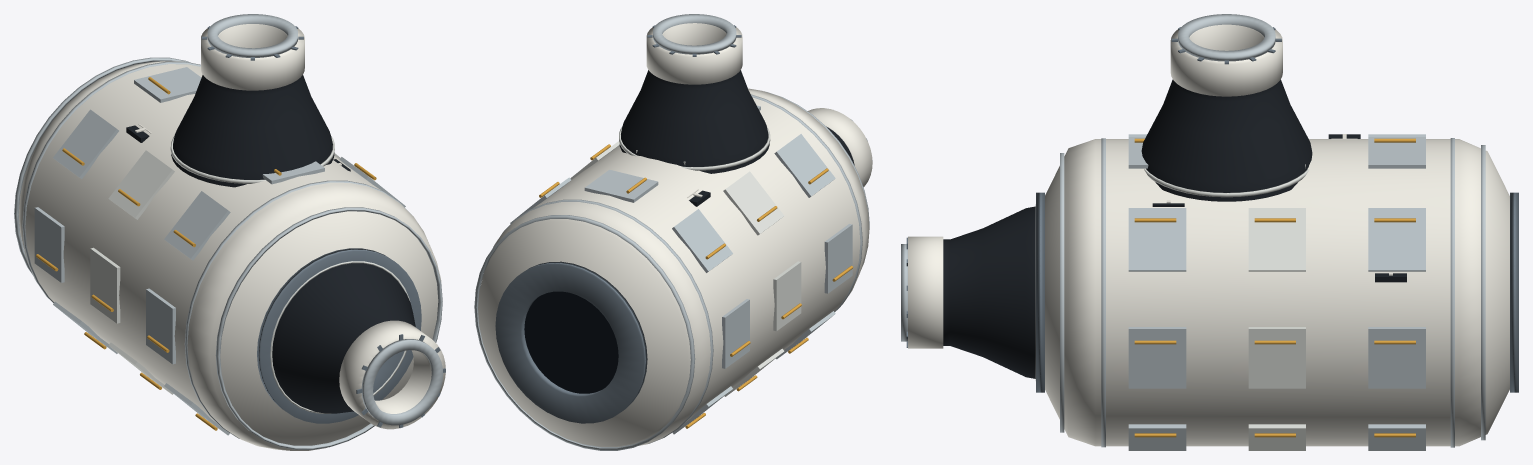
The model's file is iss_harmony_port.glb.
3 renders of one model, left to right at view 1: azimuth 30°, elevation 25°; view 2: azimuth 150°, elevation 25°; view 3: azimuth 270°, elevation 25°, orthographic. The views are drawn at different scales.
Parts seen in each view (by area): view 1: harmonymesh_Warm_white_enamel, harmonymesh_Satin_aluminum, iss_harmony_dockpma_zenithmesh_Carbon_composite, iss_harmony_dockpma_forwardmesh_Carbon_composite, harmonyaxial_hatch_bmesh_Machined_steel, iss_harmony_dockpma_zenithida_zenithmesh_Warm_white_enamel, iss_harmony_dockpma_forwardida_forwardmesh_Warm_white_enamel, harmonymesh_Pale_thermal_blanket, iss_harmony_dockpma_forwardida_forwardmesh_Satin_aluminum, iss_harmony_dockpma_zenithida_zenithmesh_Satin_aluminum, harmonymesh_Gold_thermal_insulation, iss_harmony_dockpma_forwardmesh_Pale_thermal_blanket (+1 smaller); view 2: harmonymesh_Warm_white_enamel, harmonymesh_Satin_aluminum, harmonyaxial_hatch_amesh_Machined_steel, iss_harmony_dockpma_zenithmesh_Carbon_composite, harmonyaxial_hatch_amesh_Shadowed_interior, iss_harmony_dockpma_zenithida_zenithmesh_Warm_white_enamel, harmonymesh_Pale_thermal_blanket, iss_harmony_dockpma_zenithida_zenithmesh_Satin_aluminum, iss_harmony_dockpma_forwardida_forwardmesh_Warm_white_enamel, harmonymesh_Gold_thermal_insulation, iss_harmony_dockpma_zenithmesh_Pale_thermal_blanket; view 3: harmonymesh_Warm_white_enamel, harmonymesh_Satin_aluminum, iss_harmony_dockpma_zenithmesh_Carbon_composite, iss_harmony_dockpma_forwardmesh_Carbon_composite, harmonymesh_Pale_thermal_blanket, iss_harmony_dockpma_zenithida_zenithmesh_Warm_white_enamel, iss_harmony_dockpma_forwardida_forwardmesh_Warm_white_enamel, iss_harmony_dockpma_zenithida_zenithmesh_Satin_aluminum, harmonymesh_Gold_thermal_insulation, harmonyaxial_hatch_amesh_Machined_steel, harmonyaxial_hatch_bmesh_Machined_steel, iss_harmony_dockpma_zenithmesh_Pale_thermal_blanket (+1 smaller).
Part boxes in pixels (left/top/right/bottom): harmonymesh_Warm_white_enamel: left=18, top=61, right=441, bottom=450; harmonymesh_Satin_aluminum: left=14, top=57, right=442, bottom=449; iss_harmony_dockpma_zenithmesh_Carbon_composite: left=171, top=75, right=334, bottom=187; iss_harmony_dockpma_forwardmesh_Carbon_composite: left=272, top=263, right=415, bottom=413; harmonyaxial_hatch_bmesh_Machined_steel: left=257, top=248, right=421, bottom=423; iss_harmony_dockpma_zenithida_zenithmesh_Warm_white_enamel: left=201, top=24, right=304, bottom=90; iss_harmony_dockpma_forwardida_forwardmesh_Warm_white_enamel: left=339, top=320, right=445, bottom=429; harmonymesh_Pale_thermal_blanket: left=90, top=150, right=340, bottom=394; iss_harmony_dockpma_forwardida_forwardmesh_Satin_aluminum: left=361, top=339, right=443, bottom=425; iss_harmony_dockpma_zenithida_zenithmesh_Satin_aluminum: left=207, top=14, right=297, bottom=57; harmonymesh_Gold_thermal_insulation: left=36, top=77, right=376, bottom=430; iss_harmony_dockpma_forwardmesh_Pale_thermal_blanket: left=270, top=261, right=410, bottom=413; harmonymesh_Warm_white_enamel: left=478, top=88, right=869, bottom=446; harmonymesh_Satin_aluminum: left=474, top=92, right=869, bottom=450; harmonyaxial_hatch_amesh_Machined_steel: left=495, top=261, right=647, bottom=423; iss_harmony_dockpma_zenithmesh_Carbon_composite: left=619, top=70, right=769, bottom=173; harmonyaxial_hatch_amesh_Shadowed_interior: left=524, top=291, right=618, bottom=393; iss_harmony_dockpma_zenithida_zenithmesh_Warm_white_enamel: left=646, top=23, right=742, bottom=84; harmonymesh_Pale_thermal_blanket: left=570, top=141, right=801, bottom=396; iss_harmony_dockpma_zenithida_zenithmesh_Satin_aluminum: left=653, top=14, right=736, bottom=54; iss_harmony_dockpma_forwardida_forwardmesh_Warm_white_enamel: left=807, top=108, right=872, bottom=187; harmonymesh_Gold_thermal_insulation: left=539, top=144, right=853, bottom=428; iss_harmony_dockpma_zenithmesh_Pale_thermal_blanket: left=619, top=127, right=770, bottom=170; harmonymesh_Warm_white_enamel: left=1045, top=139, right=1509, bottom=446; harmonymesh_Satin_aluminum: left=1060, top=134, right=1485, bottom=450; iss_harmony_dockpma_zenithmesh_Carbon_composite: left=1141, top=79, right=1312, bottom=201; iss_harmony_dockpma_forwardmesh_Carbon_composite: left=943, top=206, right=1035, bottom=378; harmonymesh_Pale_thermal_blanket: left=1248, top=164, right=1305, bottom=450; iss_harmony_dockpma_zenithida_zenithmesh_Warm_white_enamel: left=1170, top=24, right=1282, bottom=96; iss_harmony_dockpma_forwardida_forwardmesh_Warm_white_enamel: left=908, top=236, right=943, bottom=348; iss_harmony_dockpma_zenithida_zenithmesh_Satin_aluminum: left=1178, top=14, right=1275, bottom=61; harmonymesh_Gold_thermal_insulation: left=1134, top=138, right=1415, bottom=437; harmonyaxial_hatch_amesh_Machined_steel: left=1510, top=192, right=1518, bottom=392; harmonyaxial_hatch_bmesh_Machined_steel: left=1036, top=192, right=1044, bottom=392; iss_harmony_dockpma_zenithmesh_Pale_thermal_blanket: left=1144, top=169, right=1309, bottom=197.
Size of the model in its own units: 4.64 by 6.43 by 8.92.
